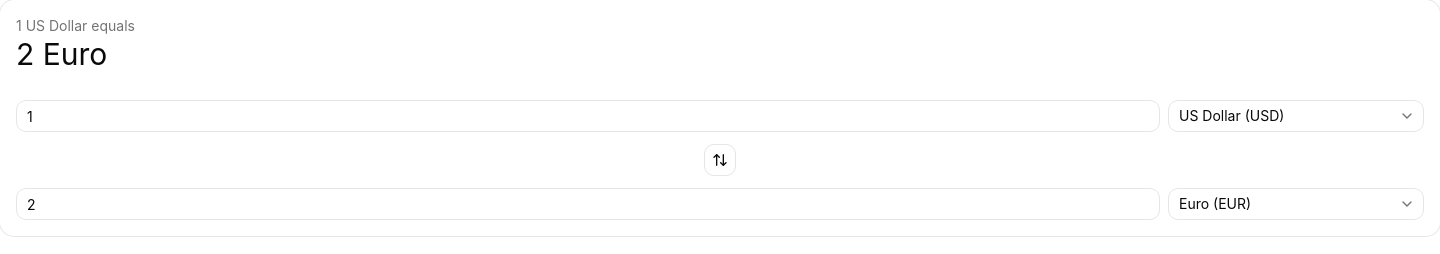
Test: CurrencyConverter › waits until the user stops typing
The image size is (1440, 254).
Expected: the field named "Converted amount" holds "2", [16,188,1160,220]
Replace the text in the number field named "Amount" with "150" at (588, 116), box [16,100,1160,132]
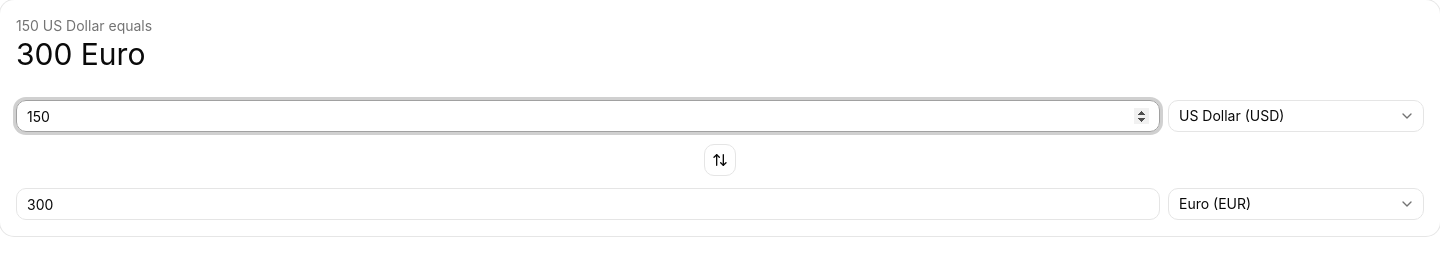
Result: the field named "Converted amount" holds "300" at [16,188,1160,220]
